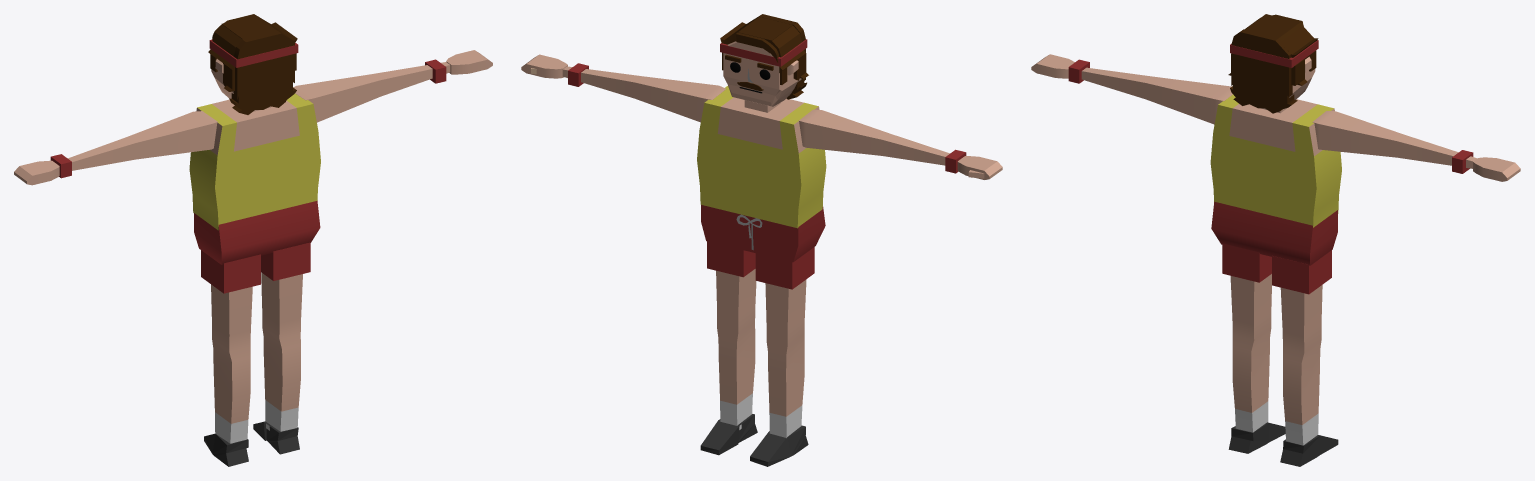
File: bounceguy.fbx
The picture shows the model from 3 angles, left to right: view 1: azimuth 30°, elevation 25°; view 2: azimuth 150°, elevation 25°; view 3: azimuth 330°, elevation 25°; orthographic projection.
Parts seen in each view (by area): view 1: pCube59, pCube63, pCube66, pCube60, pCube71, pCube70, pCube45, pCube62, pCube61, pCube51, pCube67, pCube65 (+5 smaller); view 2: pCube59, pCube63, pCube66, pCube60, pCube71, pCube70, pCube27, pCube62, pCube67, pCube61, pCube65, pCube30 (+4 smaller); view 3: pCube59, pCube63, pCube66, pCube60, pCube70, pCube71, pCube45, pCube61, pCube62, pCube51, pCube67, pCube65 (+5 smaller).
Part boxes in pixels (left/top/right/bottom): pCube59: left=189, top=93, right=320, bottom=230; pCube63: left=261, top=272, right=302, bottom=431; pCube66: left=211, top=284, right=252, bottom=443; pCube60: left=194, top=200, right=320, bottom=264; pCube71: left=68, top=111, right=217, bottom=170; pCube70: left=293, top=62, right=450, bottom=122; pCube45: left=233, top=31, right=294, bottom=100; pCube62: left=201, top=250, right=260, bottom=293; pCube61: left=261, top=242, right=310, bottom=280; pCube51: left=231, top=75, right=292, bottom=109; pCube67: left=204, top=433, right=248, bottom=466; pCube65: left=253, top=421, right=299, bottom=454; pCube59: left=697, top=86, right=826, bottom=228; pCube63: left=716, top=269, right=756, bottom=429; pCube66: left=765, top=279, right=806, bottom=437; pCube60: left=701, top=205, right=825, bottom=262; pCube71: left=799, top=109, right=949, bottom=165; pCube70: left=562, top=66, right=725, bottom=122; pCube27: left=723, top=41, right=801, bottom=106; pCube62: left=755, top=247, right=814, bottom=289; pCube67: left=750, top=425, right=808, bottom=466; pCube61: left=707, top=241, right=755, bottom=277; pCube65: left=700, top=413, right=757, bottom=455; pCube30: left=720, top=39, right=807, bottom=66; pCube59: left=1210, top=94, right=1341, bottom=227; pCube63: left=1280, top=285, right=1322, bottom=445; pCube66: left=1230, top=274, right=1271, bottom=432; pCube60: left=1211, top=201, right=1337, bottom=265; pCube70: left=1312, top=111, right=1476, bottom=168; pCube71: left=1081, top=67, right=1232, bottom=124; pCube45: left=1231, top=29, right=1292, bottom=96; pCube61: left=1272, top=250, right=1331, bottom=294; pCube62: left=1222, top=243, right=1271, bottom=282; pCube51: left=1233, top=73, right=1294, bottom=110; pCube67: left=1228, top=422, right=1285, bottom=453; pCube65: left=1280, top=435, right=1338, bottom=466.
Bounding box in the file's own units: 11.9 × 10.23 × 1.68.
